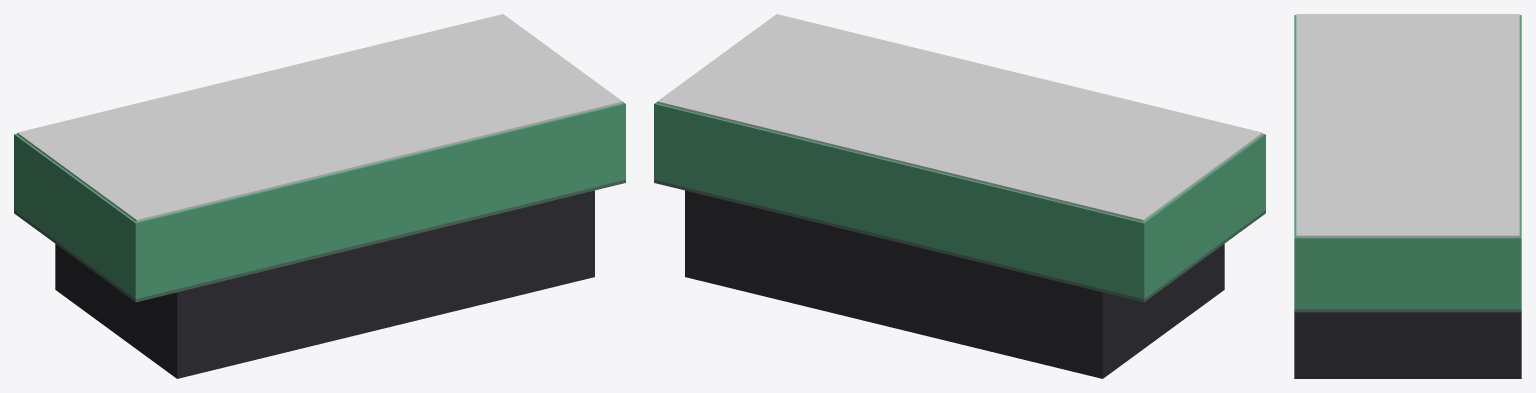
The model's file is registrar_hall.glb.
3 renders of one model, left to right at view 1: azimuth 30°, elevation 25°; view 2: azimuth 150°, elevation 25°; view 3: azimuth 270°, elevation 25°, orthographic. The views are drawn at different scales.
Parts seen in each view (by area): view 1: Wall_004, Pit_wall_S, Wall_002, Pit_wall_W, Ceiling_001, Ceiling_002, Floor_004, CeilingPanel_05_04, CeilingPanel_02_04, CeilingPanel_03_04, CeilingPanel_04_04, CeilingPanel_08_04 (+45 smaller); view 2: Wall_001, Pit_wall_N, Wall_002, Pit_wall_W, Ceiling_001, Ceiling_002, Floor_001, CeilingPanel_05_00, CeilingPanel_02_00, CeilingPanel_03_00, CeilingPanel_04_00, CeilingPanel_08_00 (+45 smaller); view 3: Wall_003, Pit_wall_E, Ceiling_001, Ceiling_002, CeilingPanel_01_02, CeilingPanel_03_02, CeilingPanel_07_02, CeilingPanel_08_02, CeilingPanel_02_02, CeilingPanel_09_02, CeilingPanel_01_00, CeilingPanel_01_01 (+45 smaller).
Part boxes in pixels (box(x1,y1,x2,y2)): Wall_004: box(134, 103, 625, 298); Pit_wall_S: box(176, 190, 594, 378); Wall_002: box(15, 135, 136, 297); Pit_wall_W: box(56, 245, 175, 377); Ceiling_001: box(17, 122, 177, 221); Ceiling_002: box(472, 14, 622, 110); Floor_004: box(134, 179, 625, 302); CeilingPanel_05_04: box(361, 132, 426, 161); CeilingPanel_02_04: box(237, 162, 301, 191); CeilingPanel_03_04: box(278, 152, 343, 181); CeilingPanel_04_04: box(320, 142, 384, 171); CeilingPanel_08_04: box(485, 101, 550, 131); Wall_001: box(654, 103, 1145, 298); Pit_wall_N: box(685, 190, 1103, 378); Wall_002: box(1143, 135, 1264, 297); Pit_wall_W: box(1104, 245, 1223, 377); Ceiling_001: box(1102, 122, 1262, 221); Ceiling_002: box(657, 14, 807, 110); Floor_001: box(654, 179, 1145, 302); CeilingPanel_05_00: box(853, 132, 918, 161); CeilingPanel_02_00: box(978, 162, 1042, 191); CeilingPanel_03_00: box(936, 152, 1001, 181); CeilingPanel_04_00: box(895, 142, 959, 171); CeilingPanel_08_00: box(729, 101, 794, 131); Wall_003: box(1296, 237, 1519, 309); Pit_wall_E: box(1296, 312, 1519, 378); Ceiling_001: box(1296, 14, 1519, 32); Ceiling_002: box(1296, 221, 1519, 237); CeilingPanel_01_02: box(1385, 51, 1430, 70); CeilingPanel_03_02: box(1385, 89, 1430, 108); CeilingPanel_07_02: box(1385, 164, 1430, 183); CeilingPanel_08_02: box(1385, 183, 1430, 202); CeilingPanel_02_02: box(1385, 70, 1430, 89); CeilingPanel_09_02: box(1385, 202, 1430, 221); CeilingPanel_01_00: box(1475, 51, 1519, 70); CeilingPanel_01_01: box(1430, 51, 1474, 70).
Size of the model in its own units: 47.4 by 15.5 by 20.4.
